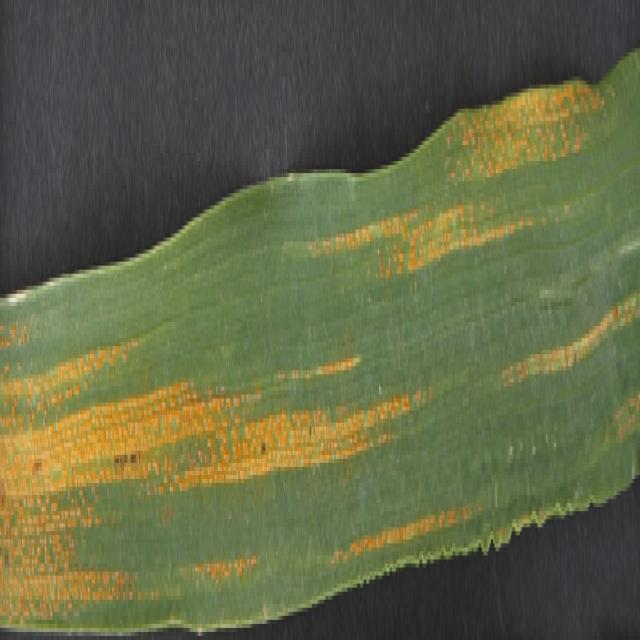leaf rust: (1, 60, 630, 608)
